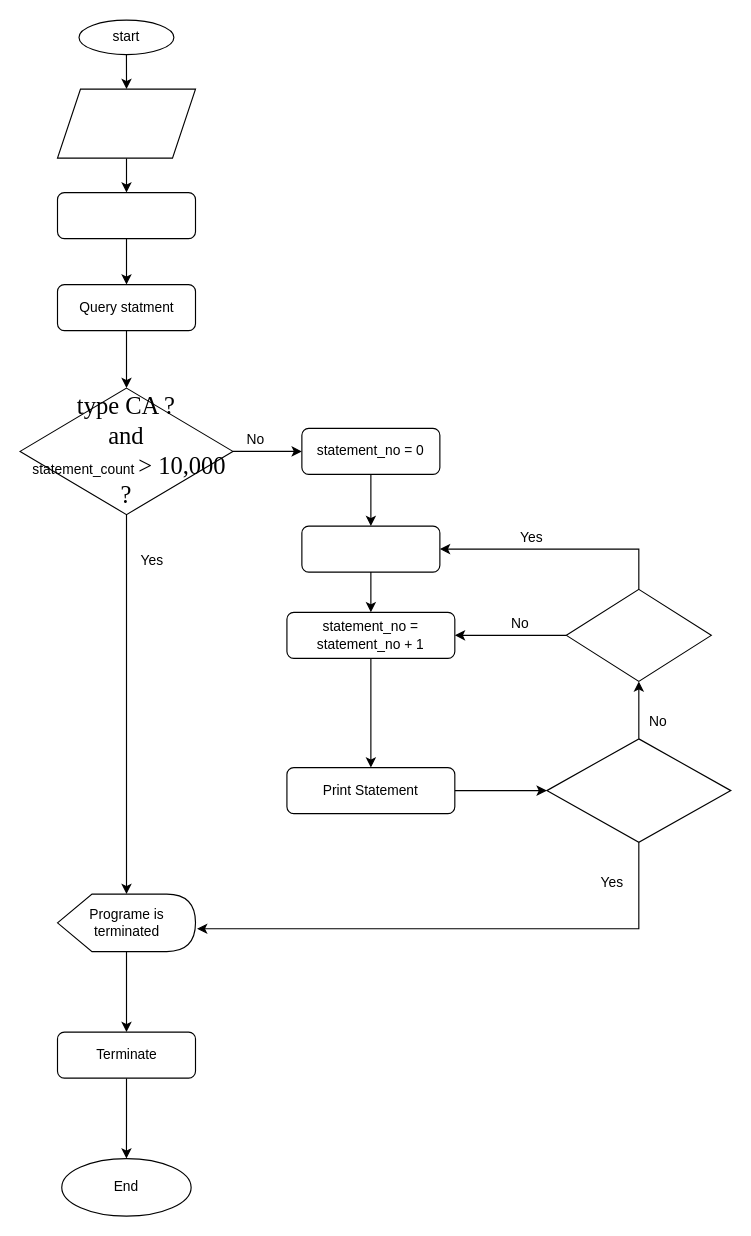
Image size: 751x1236. Some labels were removed from this diagram. Here are the shapes that lost their labels. From the top down, the box of each, then its label:
(56, 88, 195, 158): Read Account
(56, 191, 195, 239): Scan Account Type
(301, 525, 440, 572): New Page
(565, 588, 711, 681): statement_no % 50 equal 1 ?
(546, 738, 731, 842): statment_no equal statement_count ?
